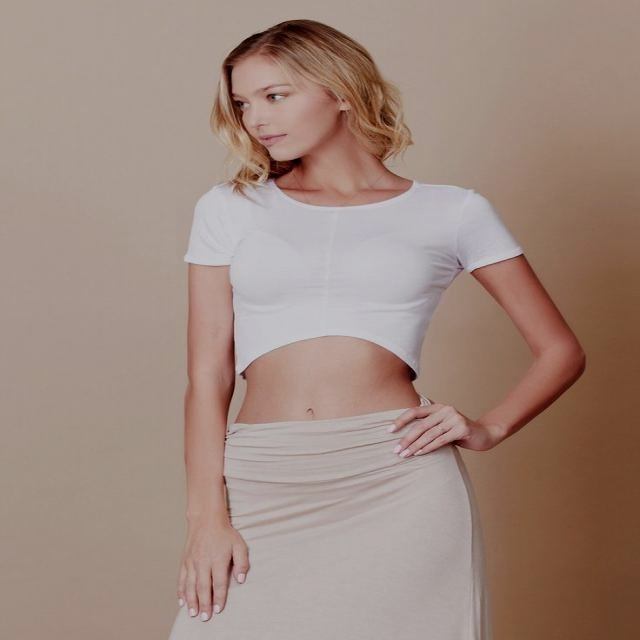Crop_Top: (227, 178, 429, 425)
